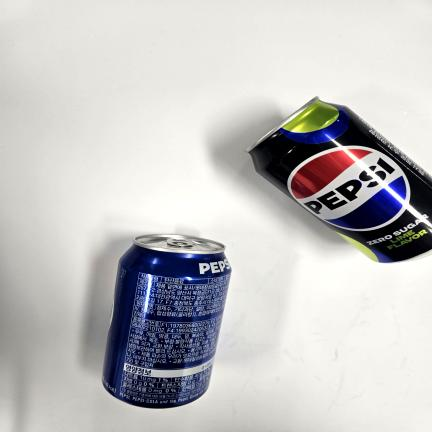can_pepsi: (102, 234, 231, 410)
can_pepsi_zero: (253, 103, 432, 264)
